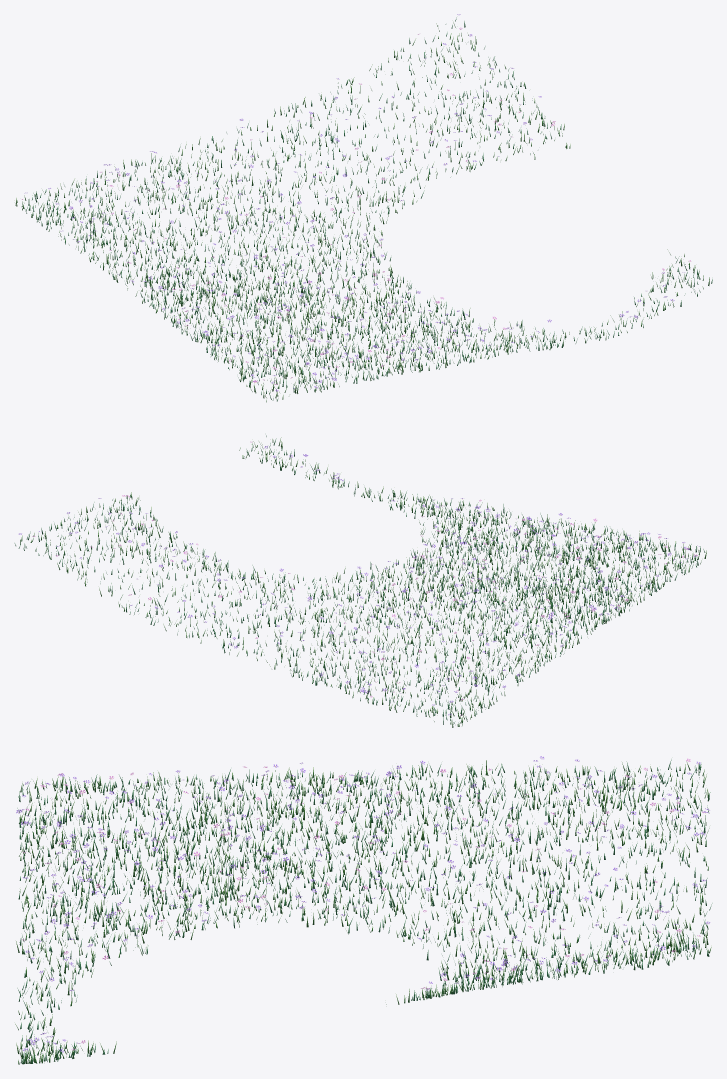
3 renders of one model, top to bottom at view 1: azimuth 30°, elevation 25°; view 2: azimuth 150°, elevation 25°; view 3: azimuth 270°, elevation 25°, orthographic. The views are drawn at different scales.
Visible parts, largest first — view 1: gc_21; view 2: gc_21; view 3: gc_21.
Boxes of the visible parts, left/top/right/bottom form: gc_21: left=15, top=14, right=712, bottom=402; gc_21: left=14, top=435, right=706, bottom=727; gc_21: left=15, top=756, right=712, bottom=1064.
Bounding box in the file's own units: 18.18 × 4.51 × 18.21.
1 material, 1 textured.
